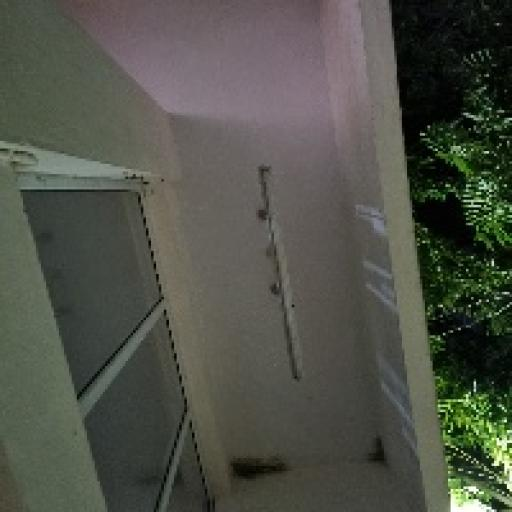Not Working: (246, 159, 330, 393)
